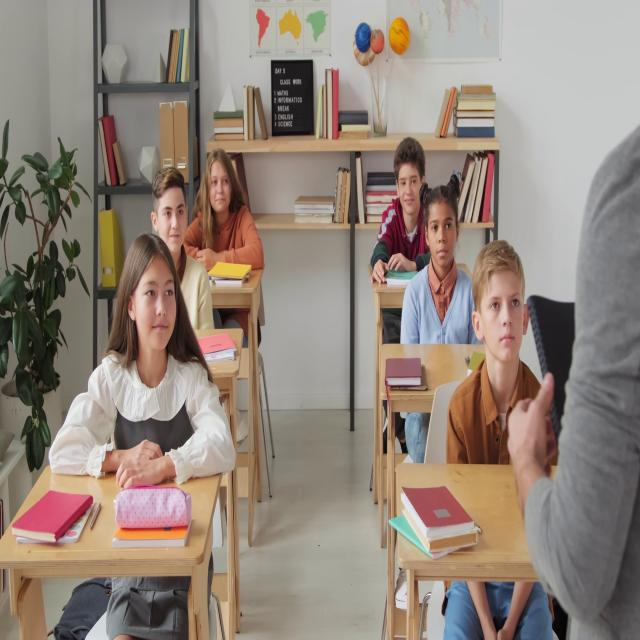listening: (51, 242, 242, 640), (446, 248, 555, 468), (191, 147, 270, 440), (400, 180, 474, 346), (151, 168, 217, 336), (369, 136, 428, 292)
